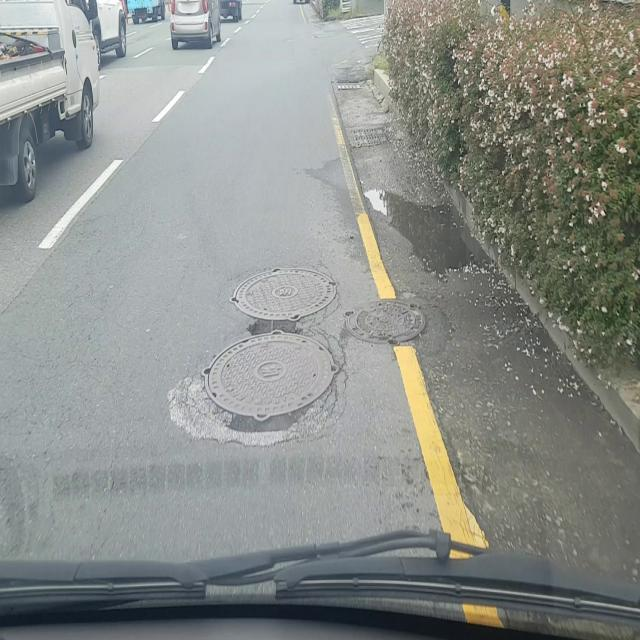Pothole: (199, 330, 343, 436), (227, 264, 343, 330)
